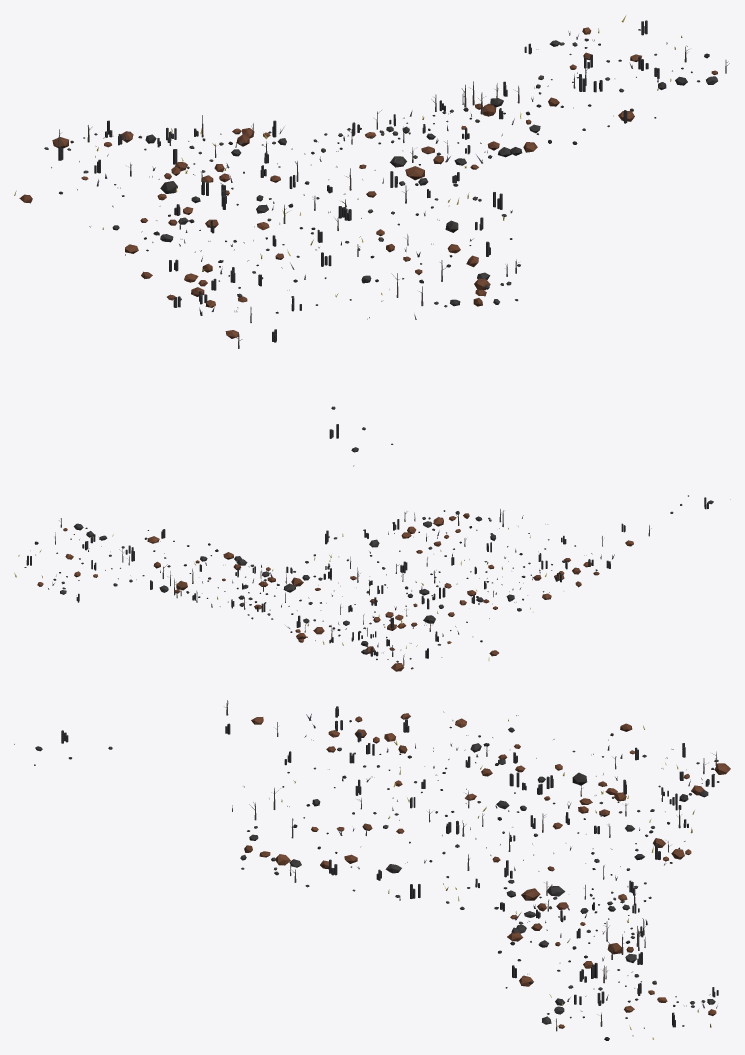
The model's file is ash_land_scatter_c15_29_lod1.glb.
The picture shows the model from 3 angles, top to bottom: view 1: azimuth 30°, elevation 25°; view 2: azimuth 150°, elevation 25°; view 3: azimuth 270°, elevation 25°; orthographic projection. The views are drawn at different scales.
Visible parts, largest first — view 1: ash_land_scatter_c15_29_lod1; view 2: ash_land_scatter_c15_29_lod1; view 3: ash_land_scatter_c15_29_lod1.
Boxes of the visible parts, x1=… form: ash_land_scatter_c15_29_lod1: x1=14, y1=15, x2=729, y2=466; ash_land_scatter_c15_29_lod1: x1=14, y1=495, x2=730, y2=671; ash_land_scatter_c15_29_lod1: x1=14, y1=700, x2=730, y2=1040.
Bounding box in the file's own units: 258 × 18.79 × 256.
